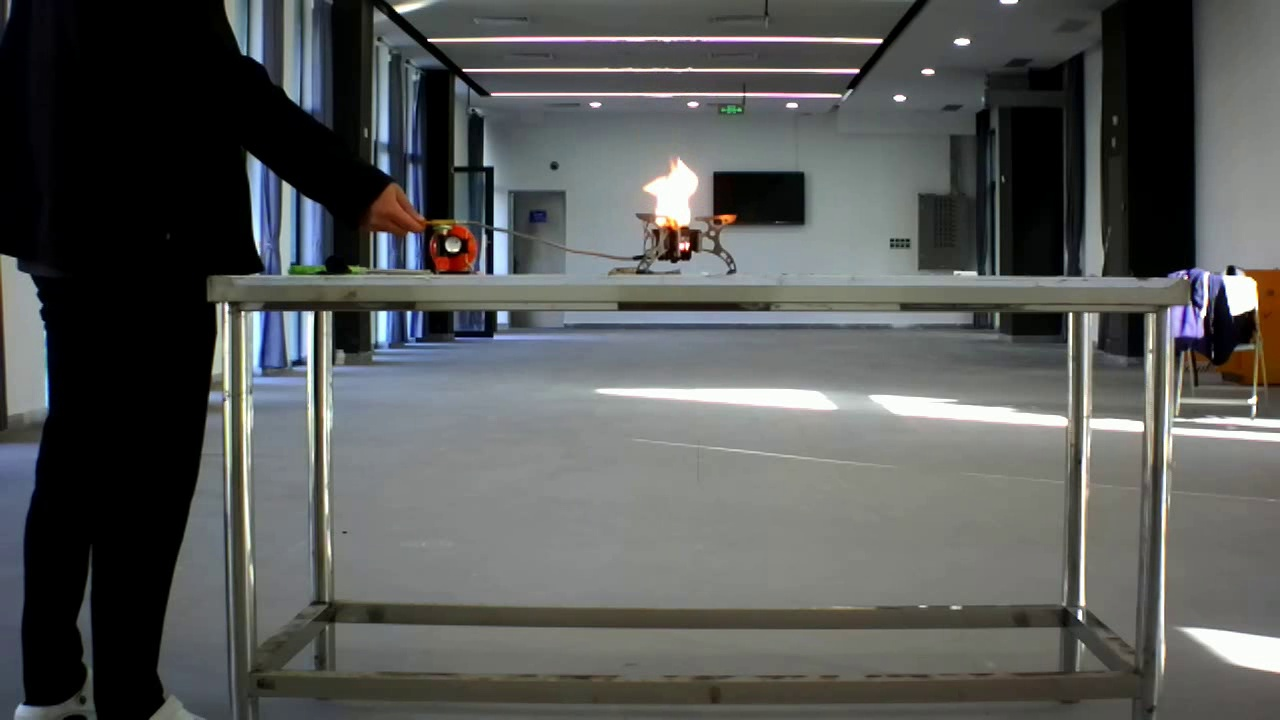Fire: (631, 150, 742, 262)
